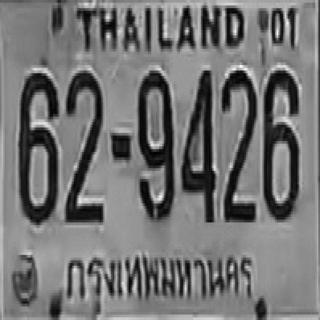N02: (64, 69, 102, 221), (220, 69, 256, 221)
N04: (180, 68, 214, 220)
N06: (17, 71, 57, 222), (262, 68, 298, 220)
N09: (137, 68, 174, 220)
P04: (60, 244, 260, 311)
